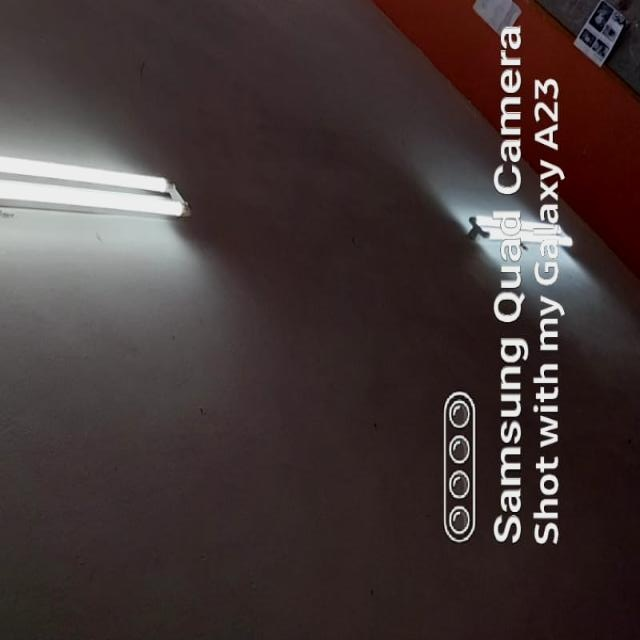fluorescent tube: (0, 86, 228, 249)
